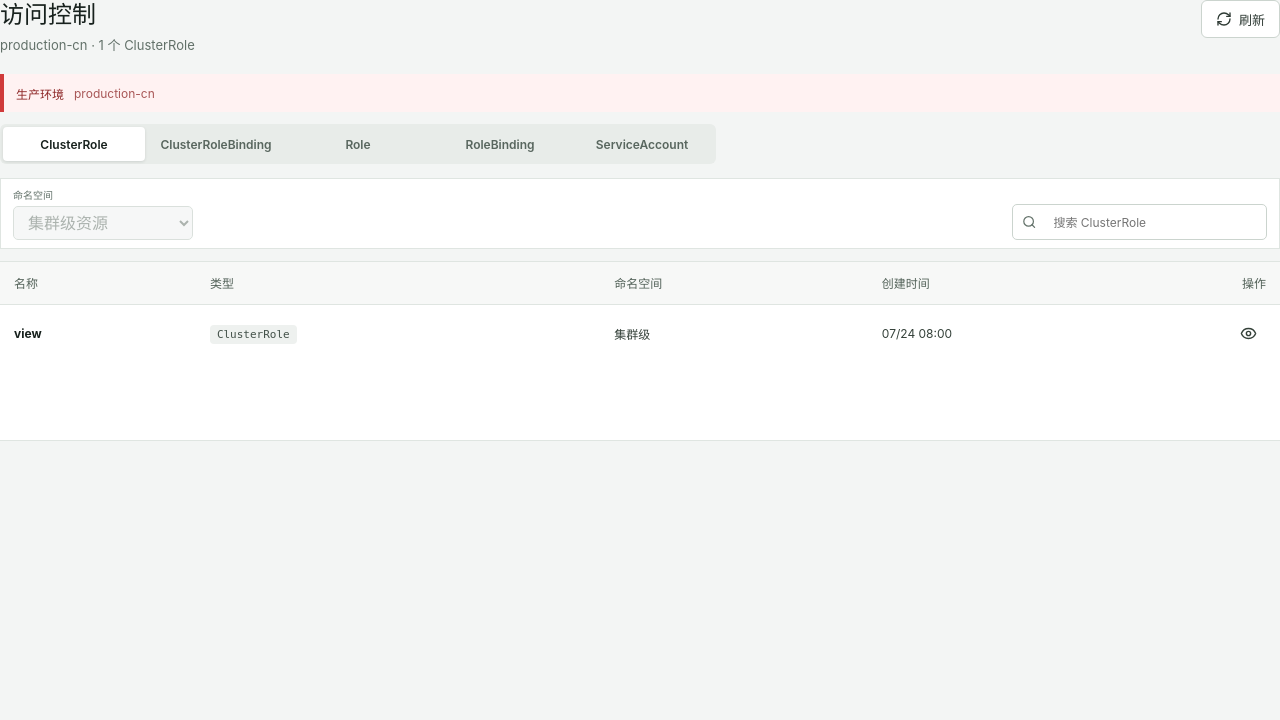
Scenario: AccessPage › aborts an active ServiceAccount access review when the dialog closes
Expected: the text "view" is shown, [14,326,42,341]
Click the button "ServiceAccount".
click(642, 144)  # box [571,127,713,161]
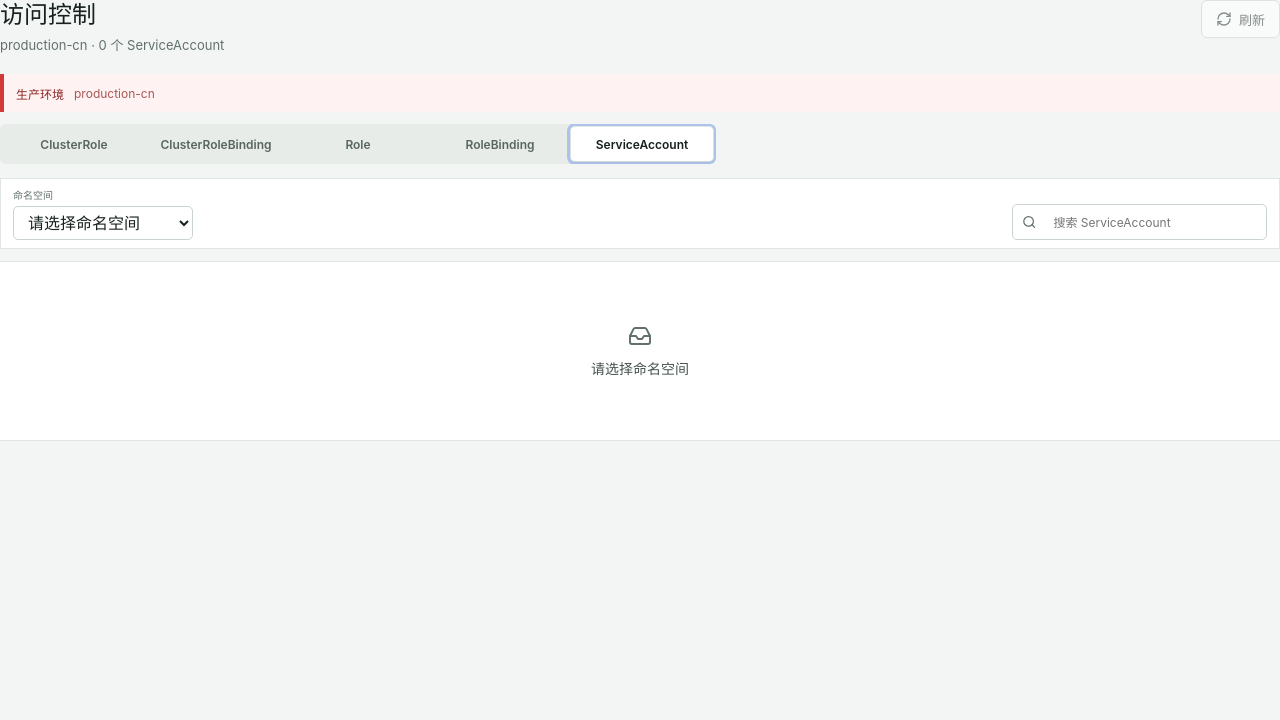
Select "payments" in the dropdown labelled "命名空间" at x=103, y=223, box [13,206,193,240]
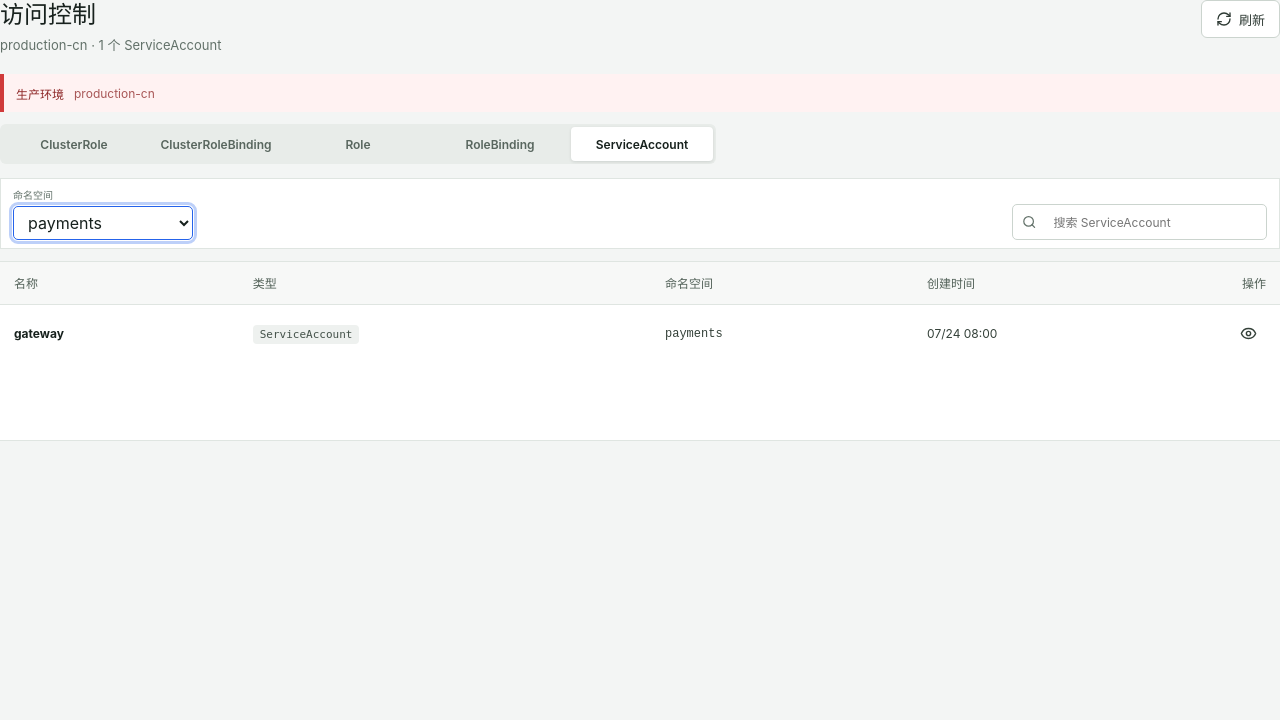
Now the text "gateway" is shown, box [14,326,64,341]
Click the button named "查看 gateway".
click(1248, 334)  # box [1230,316,1266,352]
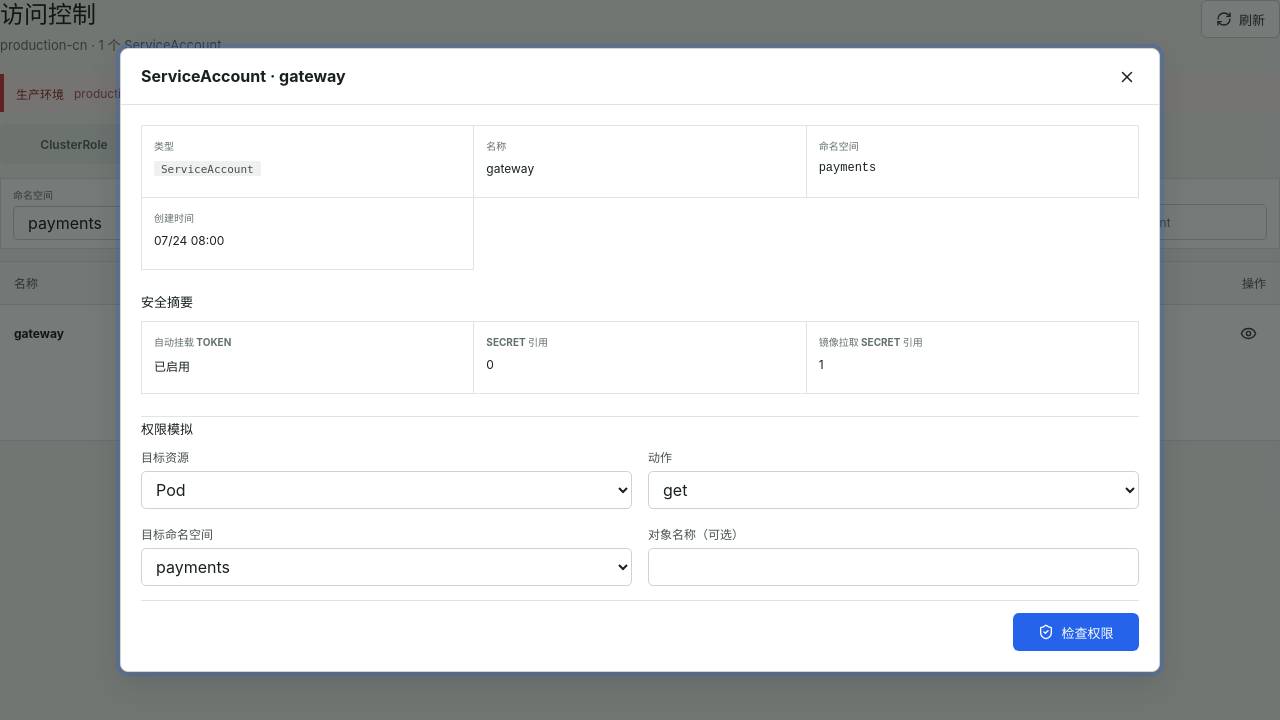
Click the button "检查权限".
click(1076, 632)  # box [1013,613,1139,651]
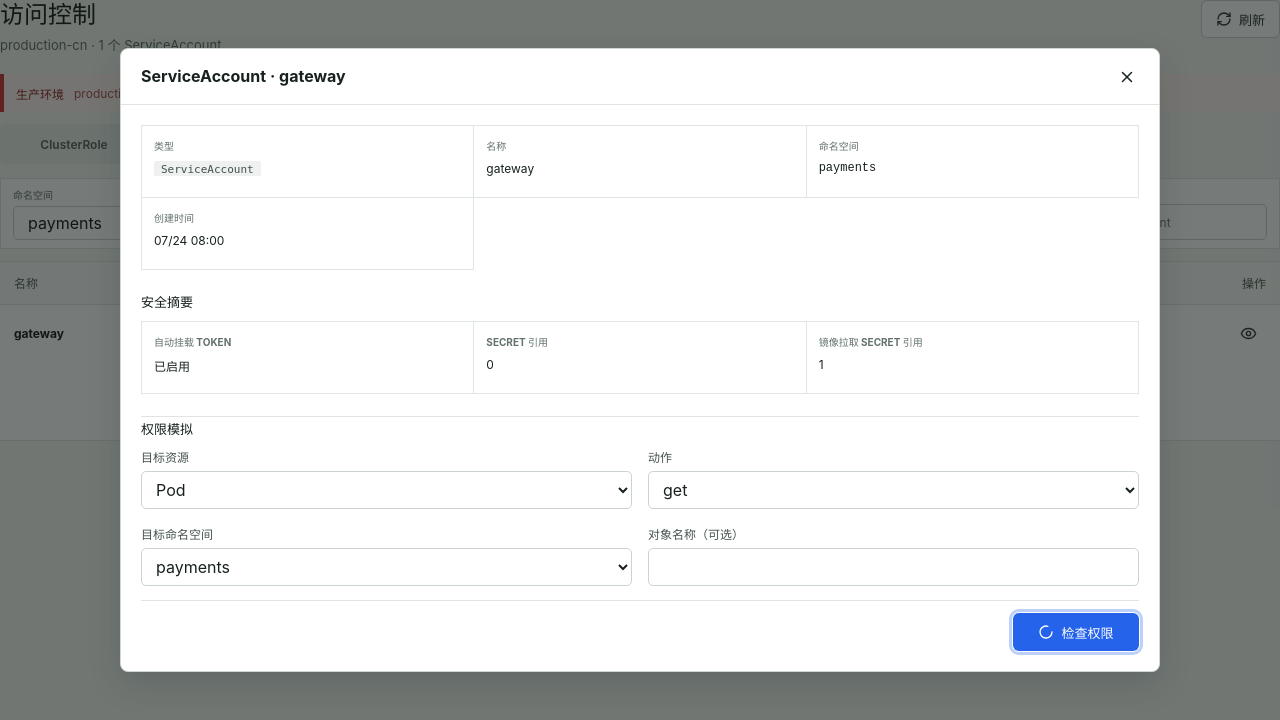
Click the button named "关闭".
click(1127, 76)  # box [1109,58,1145,94]
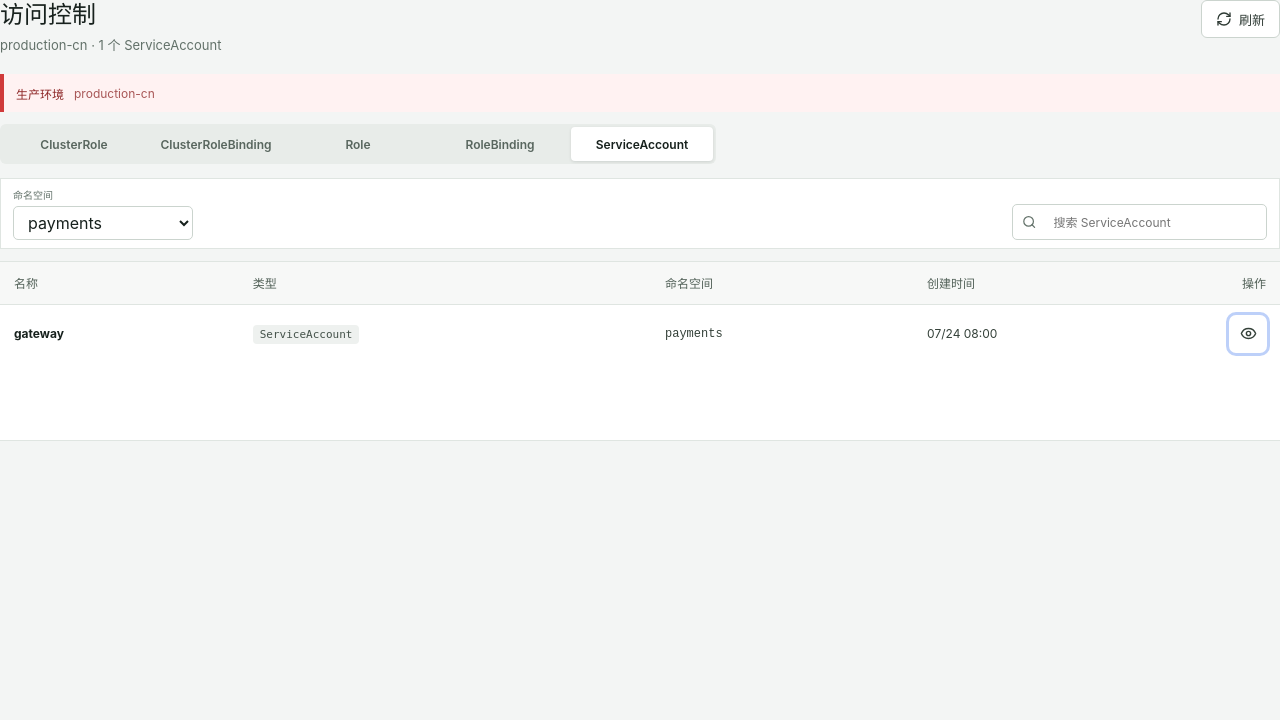
Now the heading "ServiceAccount · gateway" is gone
